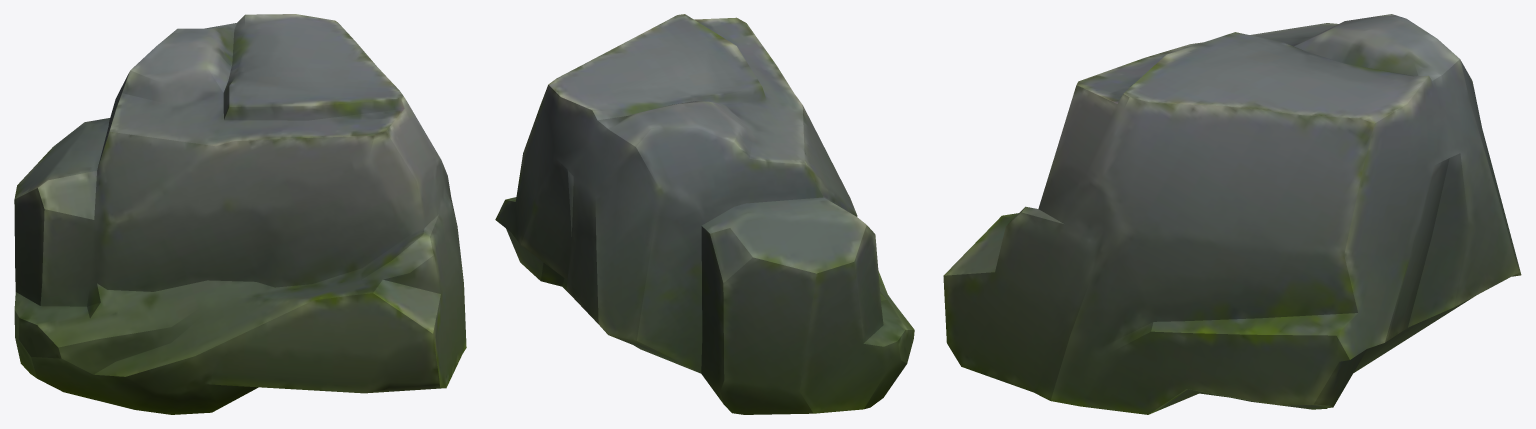
Rendered from Rock_Medium_3.gltf.
The picture shows the model from 3 angles, left to right: view 1: azimuth 30°, elevation 25°; view 2: azimuth 150°, elevation 25°; view 3: azimuth 270°, elevation 25°; orthographic projection. The views are drawn at different scales.
Parts seen in each view (by area): view 1: Rock_Medium_3; view 2: Rock_Medium_3; view 3: Rock_Medium_3.
Boxes of the visible parts, bbox=[...] form: Rock_Medium_3: bbox=[14, 14, 466, 414]; Rock_Medium_3: bbox=[495, 14, 914, 414]; Rock_Medium_3: bbox=[943, 14, 1521, 414].
Size of the model in its own units: 3.42 by 2.32 by 3.48.
Materials: 1 (1 with a texture image).
